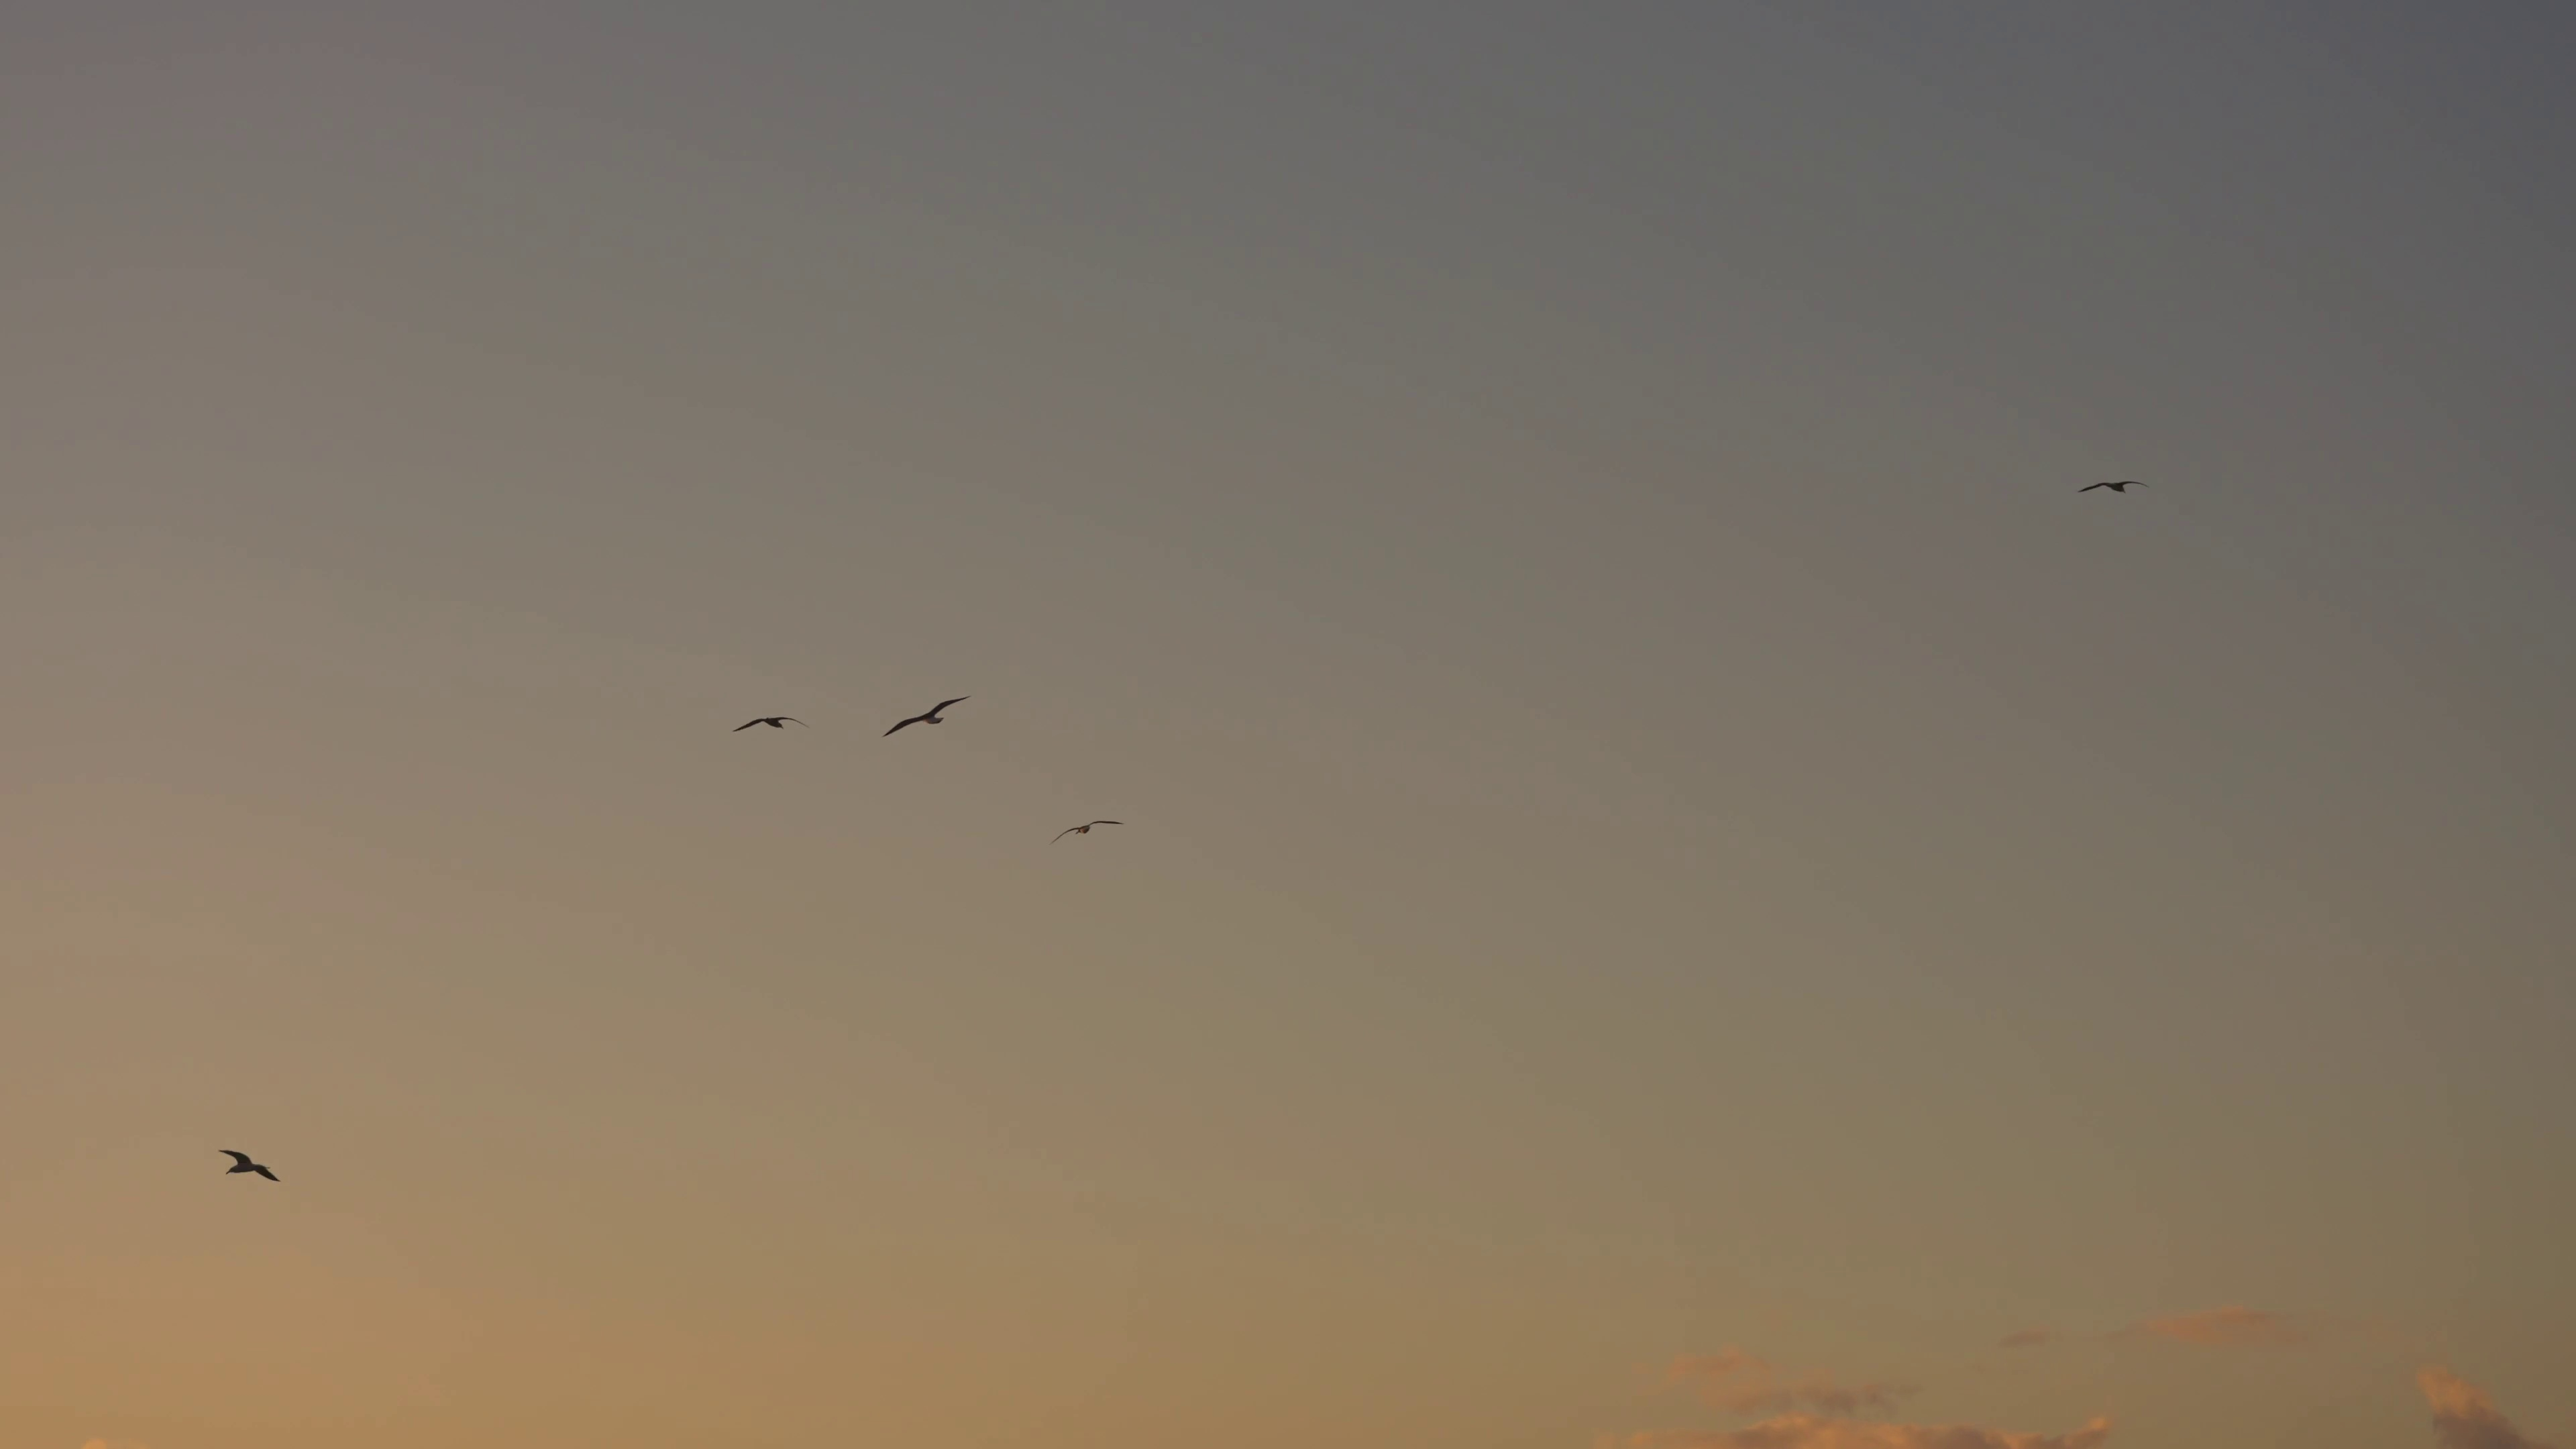bird: (879, 686, 971, 738), (216, 1145, 283, 1184), (1049, 816, 1122, 847), (731, 711, 803, 738), (2079, 472, 2146, 499)
